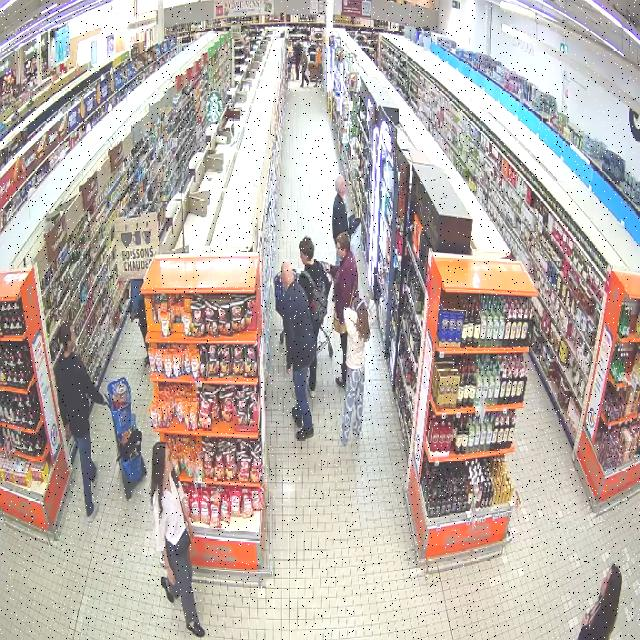bags: (303, 260, 328, 323), (333, 313, 345, 334)
hands: (163, 559, 175, 585), (322, 262, 330, 274), (189, 525, 195, 537), (286, 367, 291, 374)
person: (150, 442, 205, 637), (55, 320, 106, 521), (276, 261, 315, 440), (323, 232, 358, 387), (339, 294, 375, 444), (577, 563, 621, 639), (298, 237, 330, 340), (334, 174, 349, 241), (309, 357, 316, 396)
